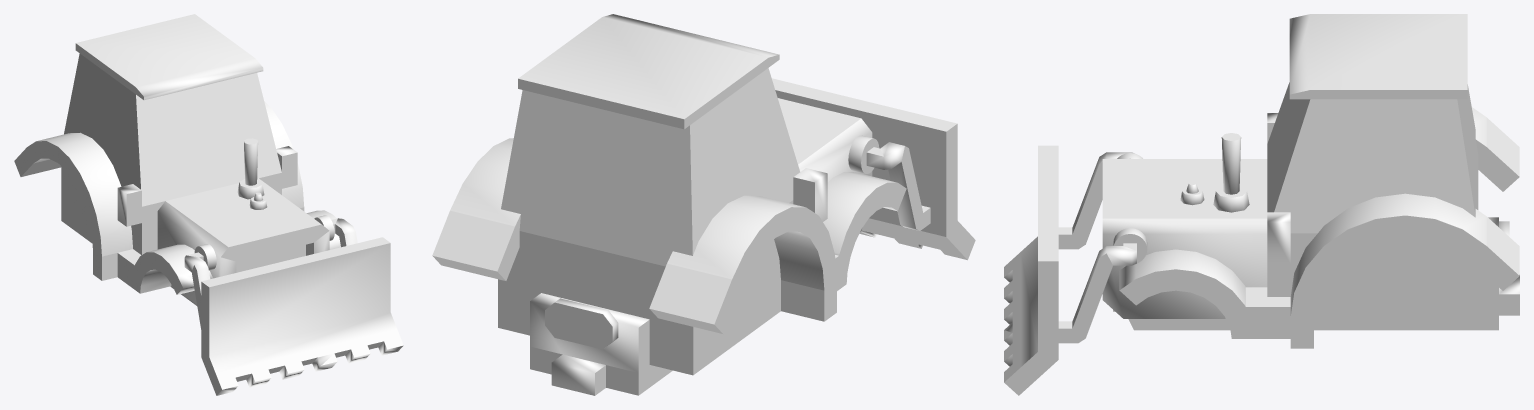
Rendered from bulldozer-vehicle.glb.
The picture shows the model from 3 angles, left to right: view 1: azimuth 30°, elevation 25°; view 2: azimuth 150°, elevation 25°; view 3: azimuth 270°, elevation 25°; orthographic projection. The views are drawn at different scales.
Parts seen in each view (by area): view 1: bulldozer-vehicle; view 2: bulldozer-vehicle; view 3: bulldozer-vehicle.
Part boxes in pixels (left/top/right/bottom): bulldozer-vehicle: left=14, top=14, right=403, bottom=395; bulldozer-vehicle: left=432, top=14, right=975, bottom=395; bulldozer-vehicle: left=1004, top=14, right=1519, bottom=395.
Bounding box in the file's own units: 1.46 × 1.51 × 2.47.
1 material, 1 textured.
